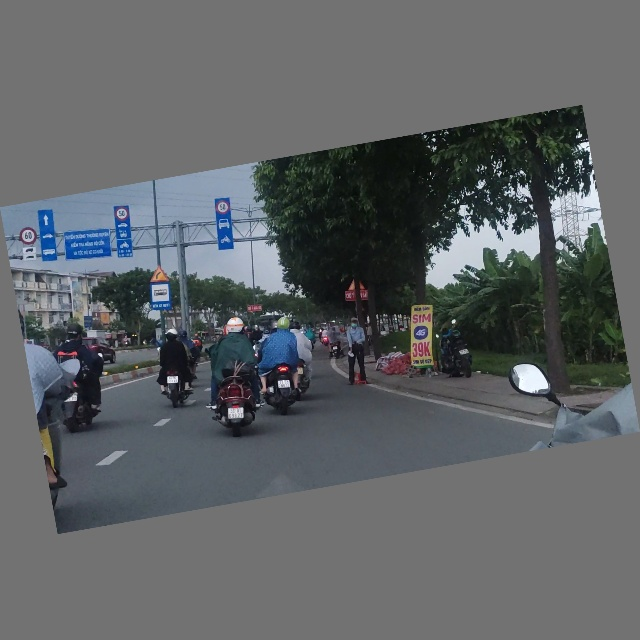I.434a: (148, 282, 173, 312)
P.127*50: (214, 199, 230, 216), (114, 206, 130, 223)
P.127*60: (18, 226, 38, 246)
S.505a*Xe tai va cong: (21, 246, 37, 262)
W.201b: (148, 265, 169, 285)
